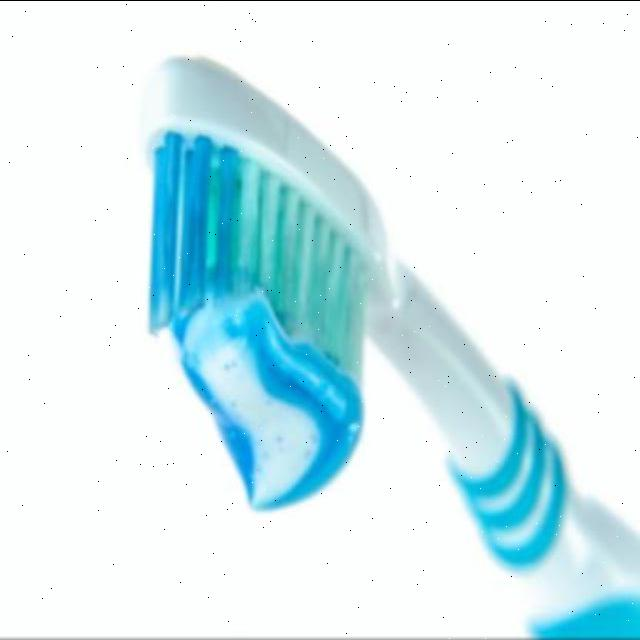toothbrush: (130, 56, 640, 640)
